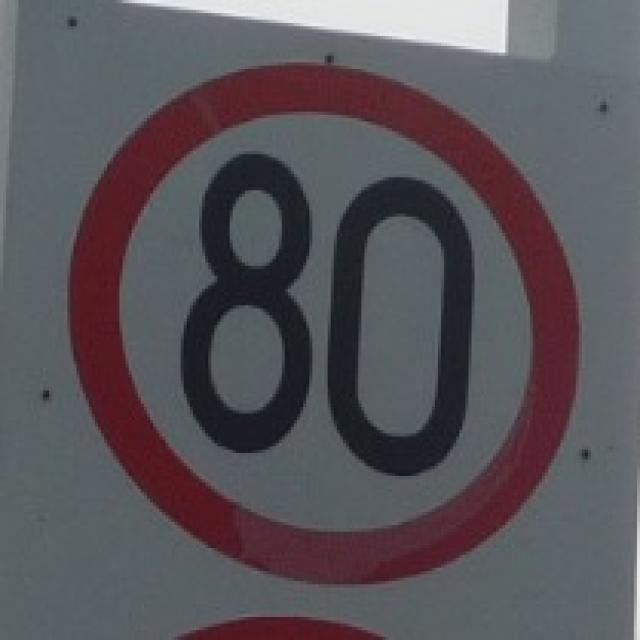Speed Limit -80-: (175, 148, 480, 481)
